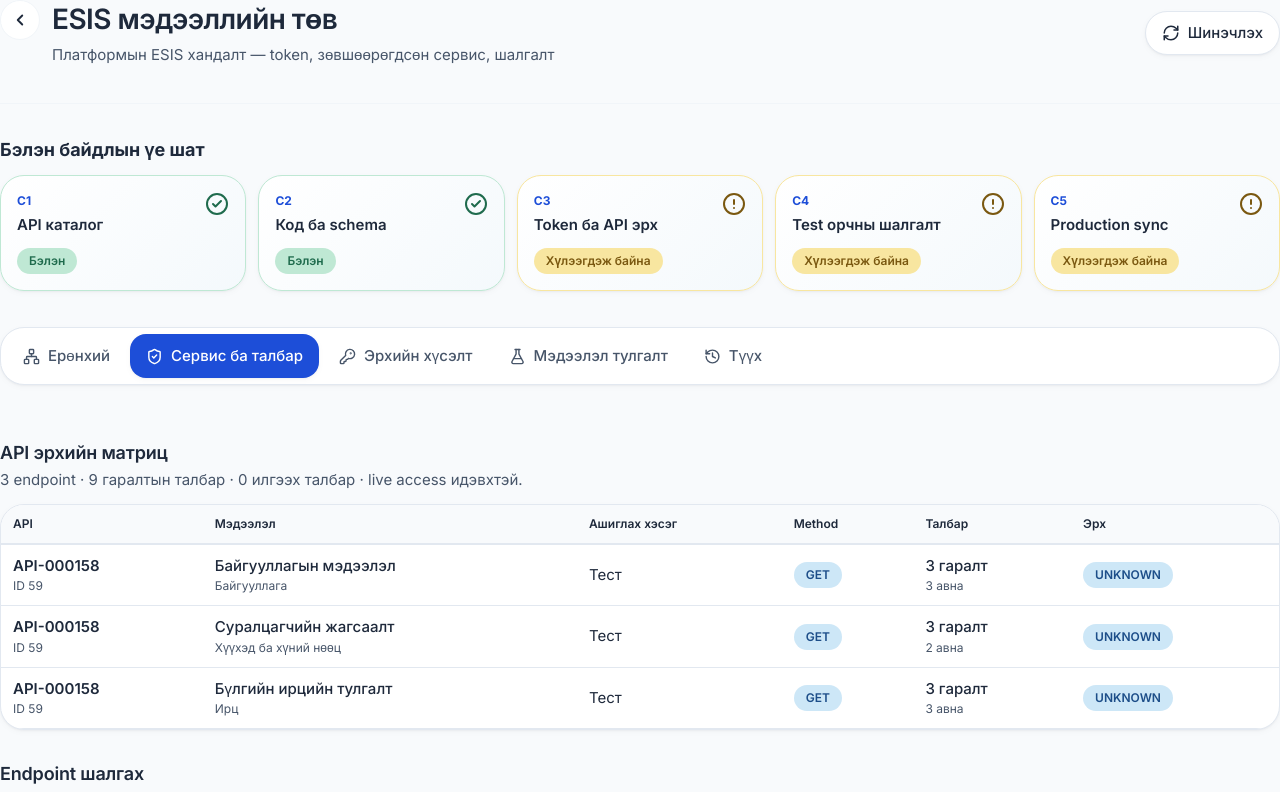
Test case: ESIS гаралтын талбарууд › counts the ESIS grants and says how many are unused
Click the tab "Эрхийн хүсэлт": (406, 356) 323,334 -> 489,378
(page scrolled)
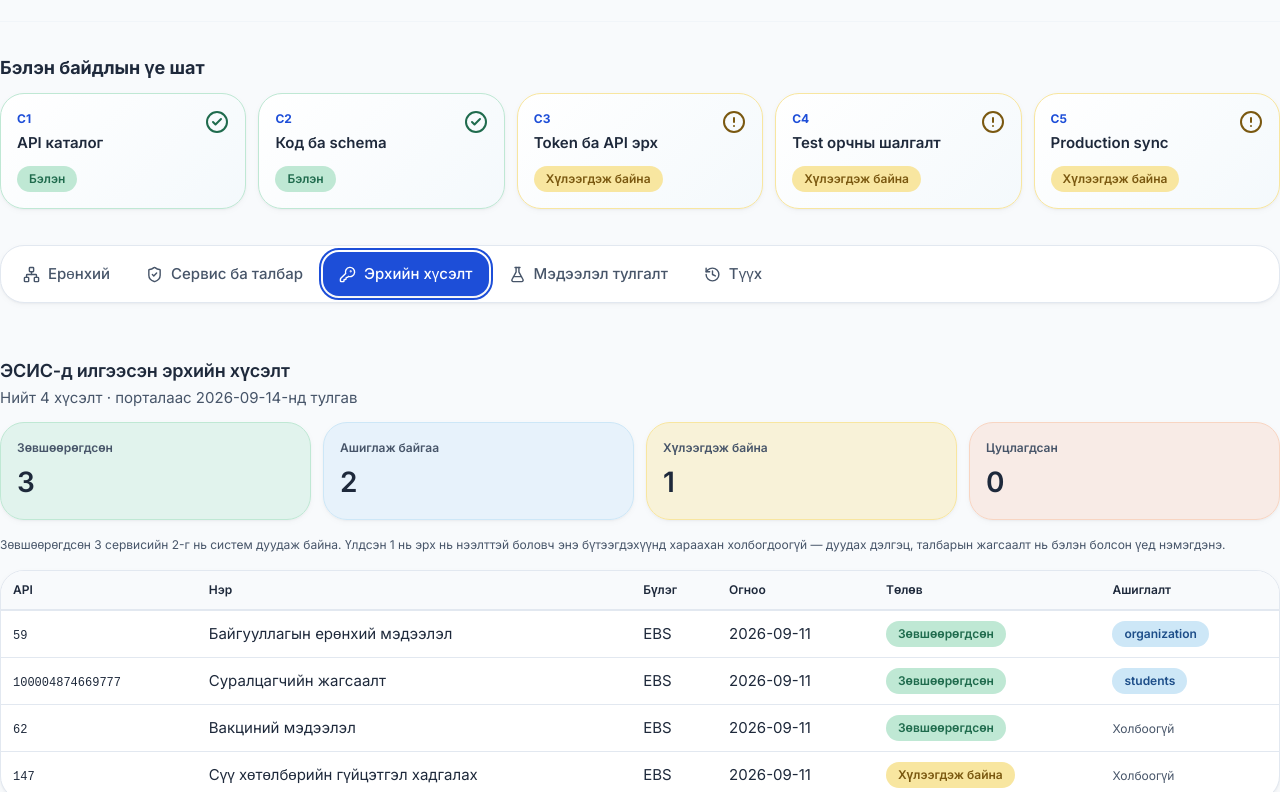
Expected: the text "Нийт 4 хүсэлт · порталаас 2026-09-14-нд тулгав" is shown, 0,387 -> 358,410
Expected: the text "Зөвшөөрөгдсөн 3 сервисийн 2-г нь систем дуудаж байна" is shown, 0,536 -> 1279,554
Expected: the text "Холбоогүй" in the row of "62" is shown, 1112,720 -> 1174,736
